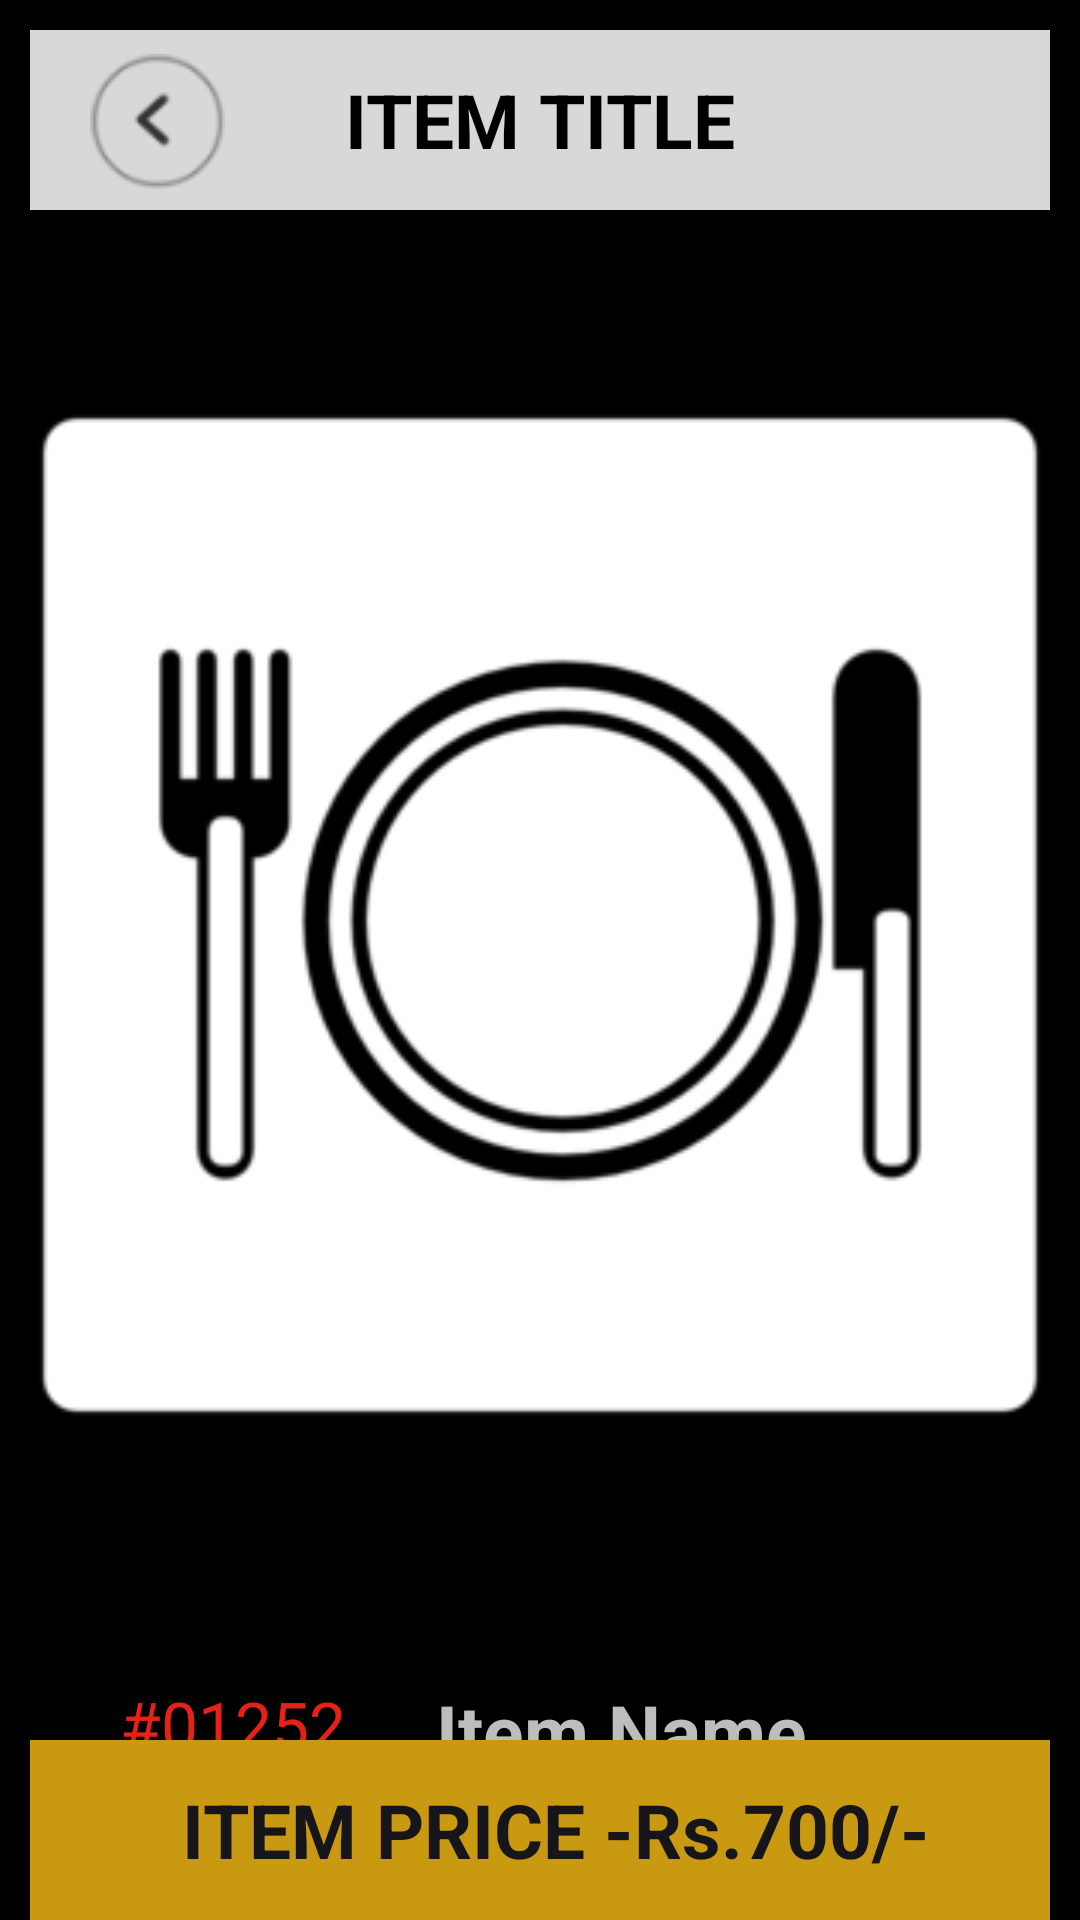

Screen size 1080x1920. Icon name, then its center in pixels as (x,y):
back: (156,120)
